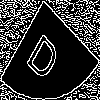D: (25, 24, 66, 84)
